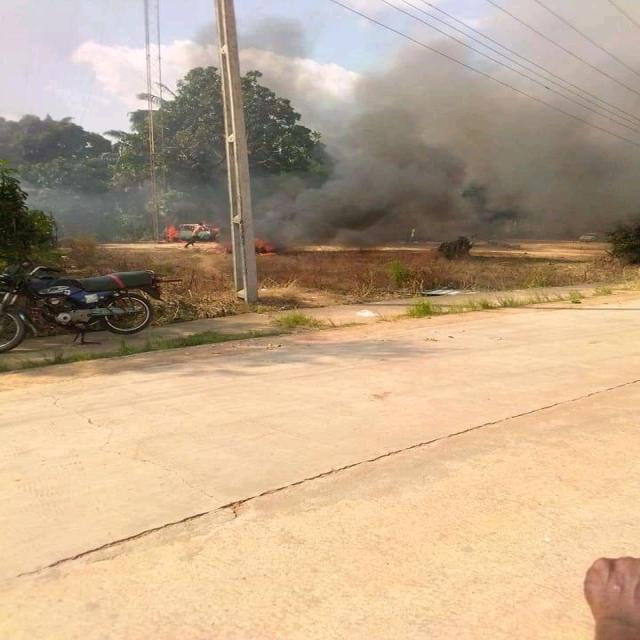smoke: (326, 99, 607, 221)
